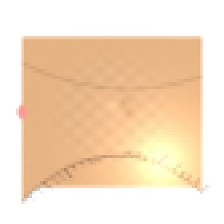pinguecula_lesion: (154, 88, 194, 120)
